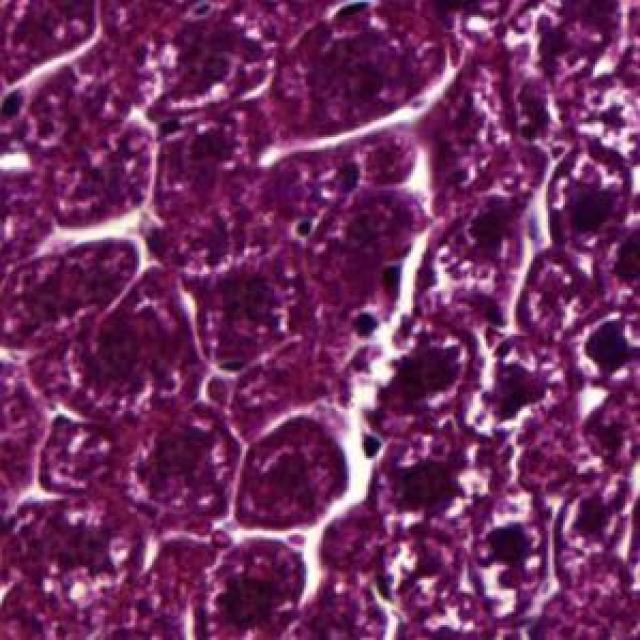inflammation: (223, 398, 368, 546), (533, 139, 638, 251), (460, 332, 570, 436), (460, 507, 565, 612)
